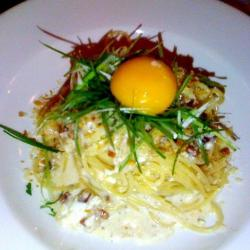carbonara: (34, 113, 232, 238)
